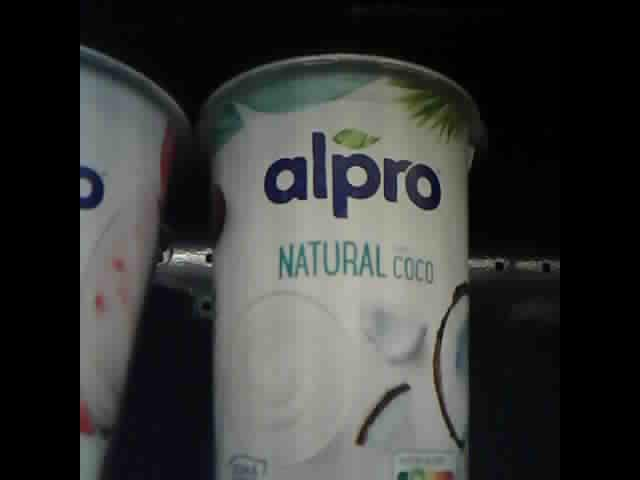alpro: (197, 54, 485, 480), (80, 40, 190, 480)
